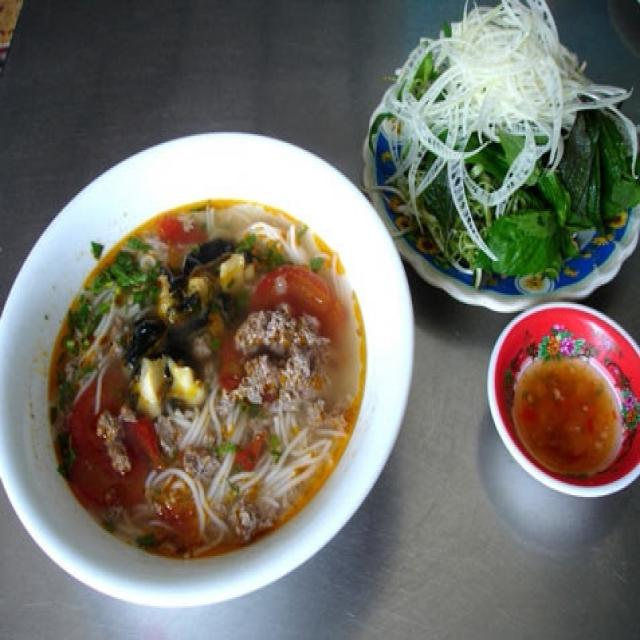面条主食: (1, 12, 628, 618)
